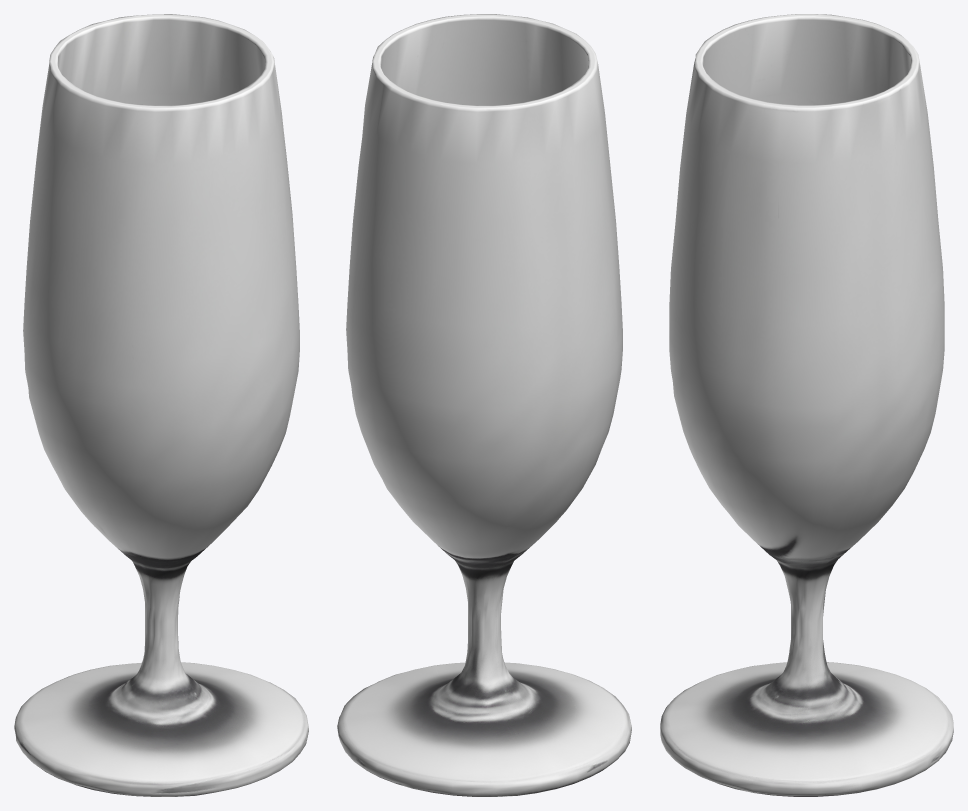
File: Crystal_All_Purpose_10InchesTall_TableTop_0222193237_texture.glb
3 views of the same model, side by side, from view 1: azimuth 30°, elevation 25°; view 2: azimuth 150°, elevation 25°; view 3: azimuth 270°, elevation 25° (orthographic).
Parts seen in each view (by area): view 1: Mesh_0; view 2: Mesh_0; view 3: Mesh_0.
Boxes of the visible parts, box(x1,y1,x2,y2) form: Mesh_0: box(14, 14, 308, 796); Mesh_0: box(337, 14, 631, 796); Mesh_0: box(660, 14, 953, 796).
Size of the model in its own units: 0.0998 by 0.254 by 0.0998.
Materials: 1 (1 with a texture image).
